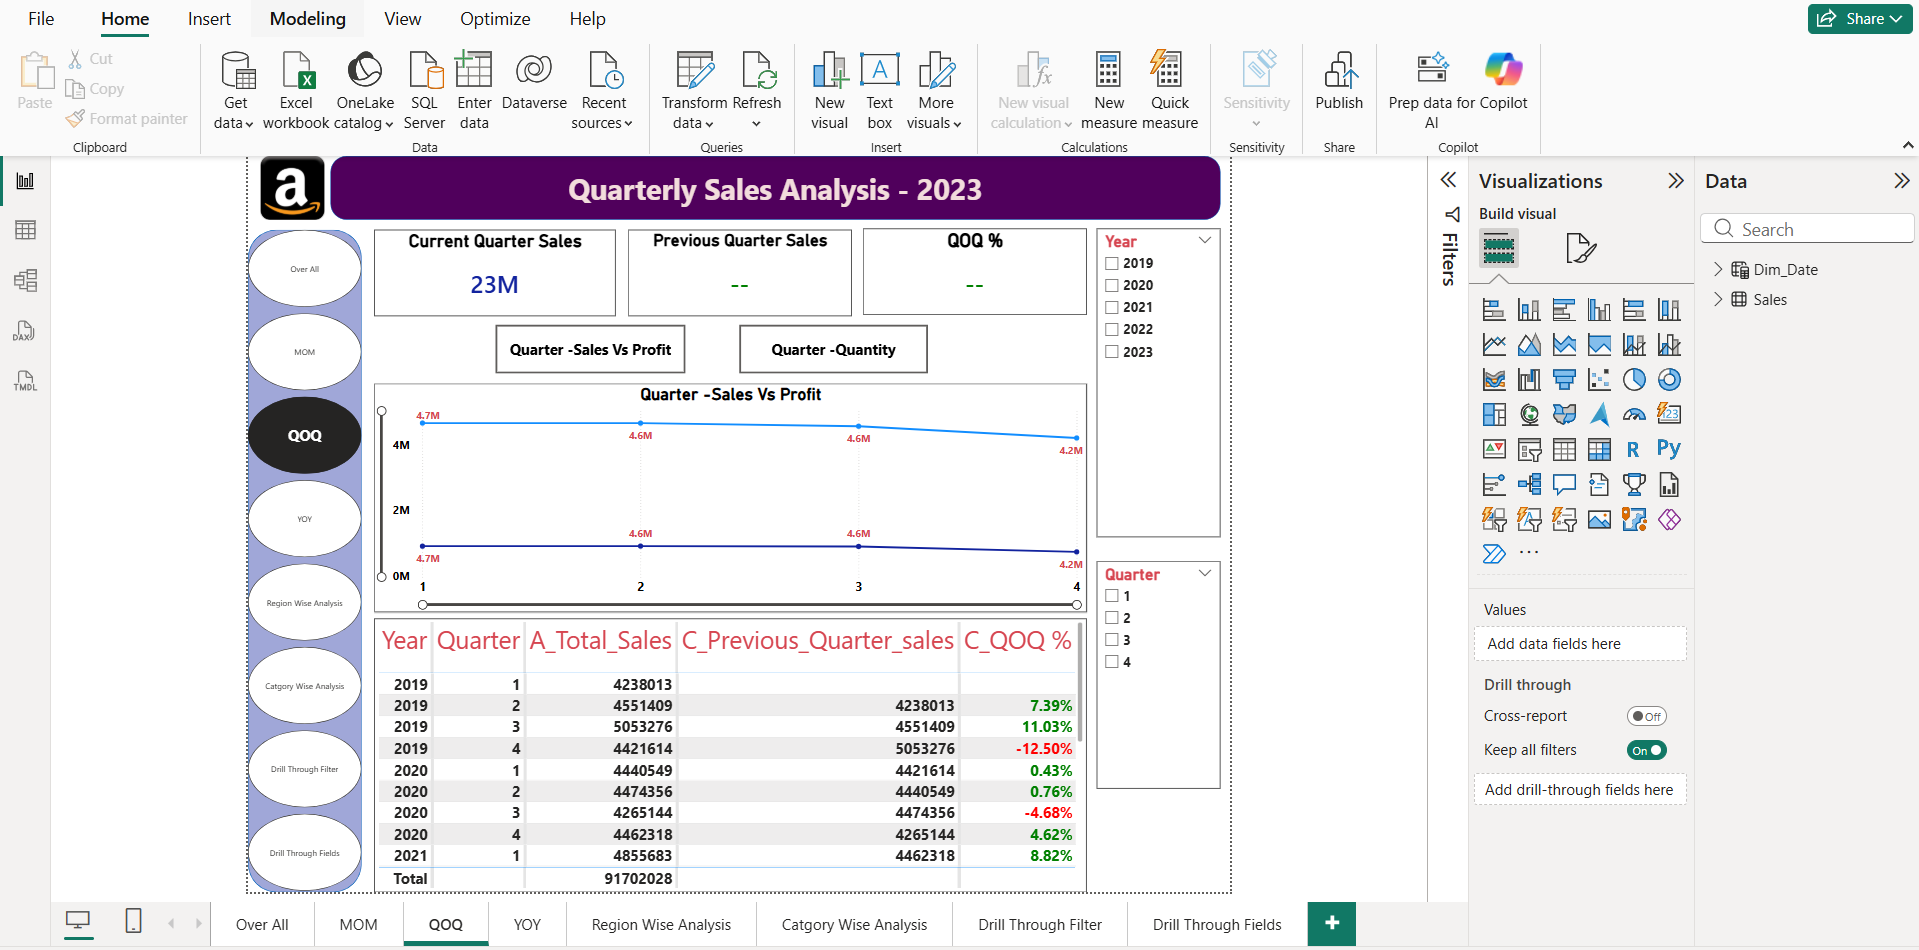

The dashboard page shown, as its layout file describes it:
{"tool":"powerbi","page":{"name":"QOQ","canvas":[1600,1200],"ordinal":2},"visuals":[{"type":"image","box":[10.2,0,124.3,103.9],"z":0},{"type":"shape","box":[134.5,0,1451.1,103.9],"z":1000},{"type":"shape","box":[0,120.2,185.5,1080.2],"z":2000},{"type":"cardVisual","title":"Current Quarter Sales","fields":{"Data":["Sales.C_Current_Quarter_Sales"]},"box":[205.8,120.2,393.3,140.6],"z":3000},{"type":"cardVisual","title":"Previous Quarter Sales","fields":{"Data":["Sales.C_Previous_Quarter_sales"]},"box":[619.6,120.2,364.8,140.6],"z":4000},{"type":"cardVisual","title":"QOQ %","fields":{"Data":["Sales.C_QOQ %"]},"box":[1002.7,118.2,364.8,140.6],"z":5000},{"type":"lineChart","title":"Quarter -Sales Vs Profit","fields":{"Y":["Sales.A_Total_Sales","Sales.A_Total_Profit"],"Category":["Dim_Date.Quarter"]},"box":[205.8,370.9,1161.7,373],"z":6000},{"type":"actionButton","box":[801,275.1,307.7,79.5],"z":8000},{"type":"actionButton","box":[403.5,275.1,309.8,79.5],"z":9000},{"type":"tableEx","fields":{"Values":["Dim_Date.Year","Dim_Date.Quarter","Sales.A_Total_Sales","Sales.C_Previous_Quarter_sales","Sales.C_QOQ %"]},"box":[205.8,754.1,1161.7,446.3],"z":10000},{"type":"slicer","fields":{"Values":["Dim_Date.Year"]},"box":[1383.8,118.2,201.8,503.4],"z":11000},{"type":"slicer","fields":{"Values":["Dim_Date.Quarter"]},"box":[1383.8,660.3,201.8,370.9],"z":12000},{"type":"pageNavigator","box":[0,120.2,185.5,1080.2],"z":13000}]}

Visuals, with their boxes on the page's 1600x1200 design canvas (x1, y1, x2, y2). These are canvas units, not pixel positions in the 1919x950 screenshot, which may show the page scaled, cropped or inside an application window:
image: 10/0/134/104
shape: 134/0/1586/104
shape: 0/120/186/1200
"Current Quarter Sales" cardVisual: 206/120/599/261
"Previous Quarter Sales" cardVisual: 620/120/984/261
"QOQ %" cardVisual: 1003/118/1368/259
"Quarter -Sales Vs Profit" lineChart: 206/371/1368/744
actionButton: 801/275/1109/355
actionButton: 404/275/713/355
tableEx - Dim_Date.Year x Dim_Date.Quarter: 206/754/1368/1200
slicer - Dim_Date.Year: 1384/118/1586/622
slicer - Dim_Date.Quarter: 1384/660/1586/1031
pageNavigator: 0/120/186/1200
